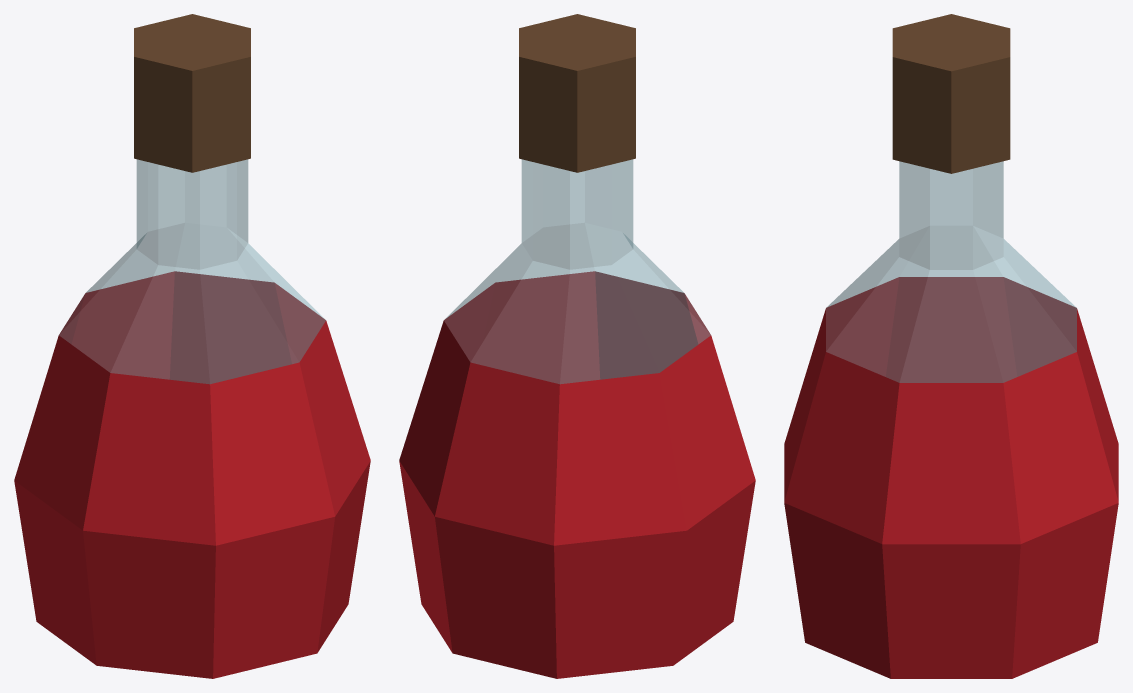
The model's file is SM_Item_Pozione.glb.
3 views of the same model, side by side, from view 1: azimuth 30°, elevation 25°; view 2: azimuth 150°, elevation 25°; view 3: azimuth 270°, elevation 25° (orthographic).
Parts seen in each view (by area): view 1: Item; view 2: Item; view 3: Item.
Part boxes in pixels (x1,y1,x2,y2): Item: (14, 14, 370, 678); Item: (399, 14, 755, 678); Item: (784, 14, 1118, 678).
Size of what is drawn, in the model's own units: 0.2365 by 0.464 by 0.2365.
Materials: 2 (2 with a texture image).
